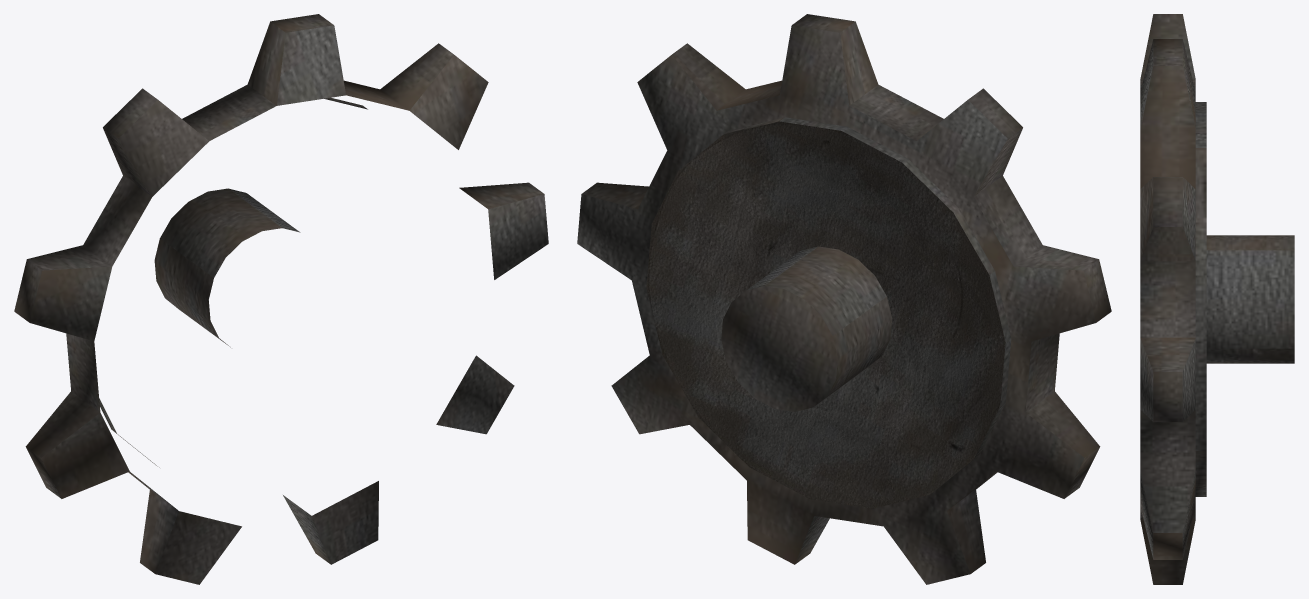
File: cogwheel3.glb
The picture shows the model from 3 angles, left to right: view 1: azimuth 30°, elevation 25°; view 2: azimuth 150°, elevation 25°; view 3: azimuth 270°, elevation 25°; orthographic projection. The views are drawn at different scales.
Parts seen in each view (by area): view 1: metal_rusted.jpg__; view 2: metal_rusted.jpg__, metal_rusted_circle.jpg__; view 3: metal_rusted.jpg__.
Boxes of the visible parts, x1=… form: metal_rusted.jpg__: x1=14, y1=14, x2=548, y2=584; metal_rusted.jpg__: x1=577, y1=14, x2=1111, y2=584; metal_rusted_circle.jpg__: x1=646, y1=121, x2=1005, y2=508; metal_rusted.jpg__: x1=1140, y1=14, x2=1294, y2=584.
Bounding box in the file's own units: 5.1 × 5.1 × 1.38.
2 materials, 2 textured.
